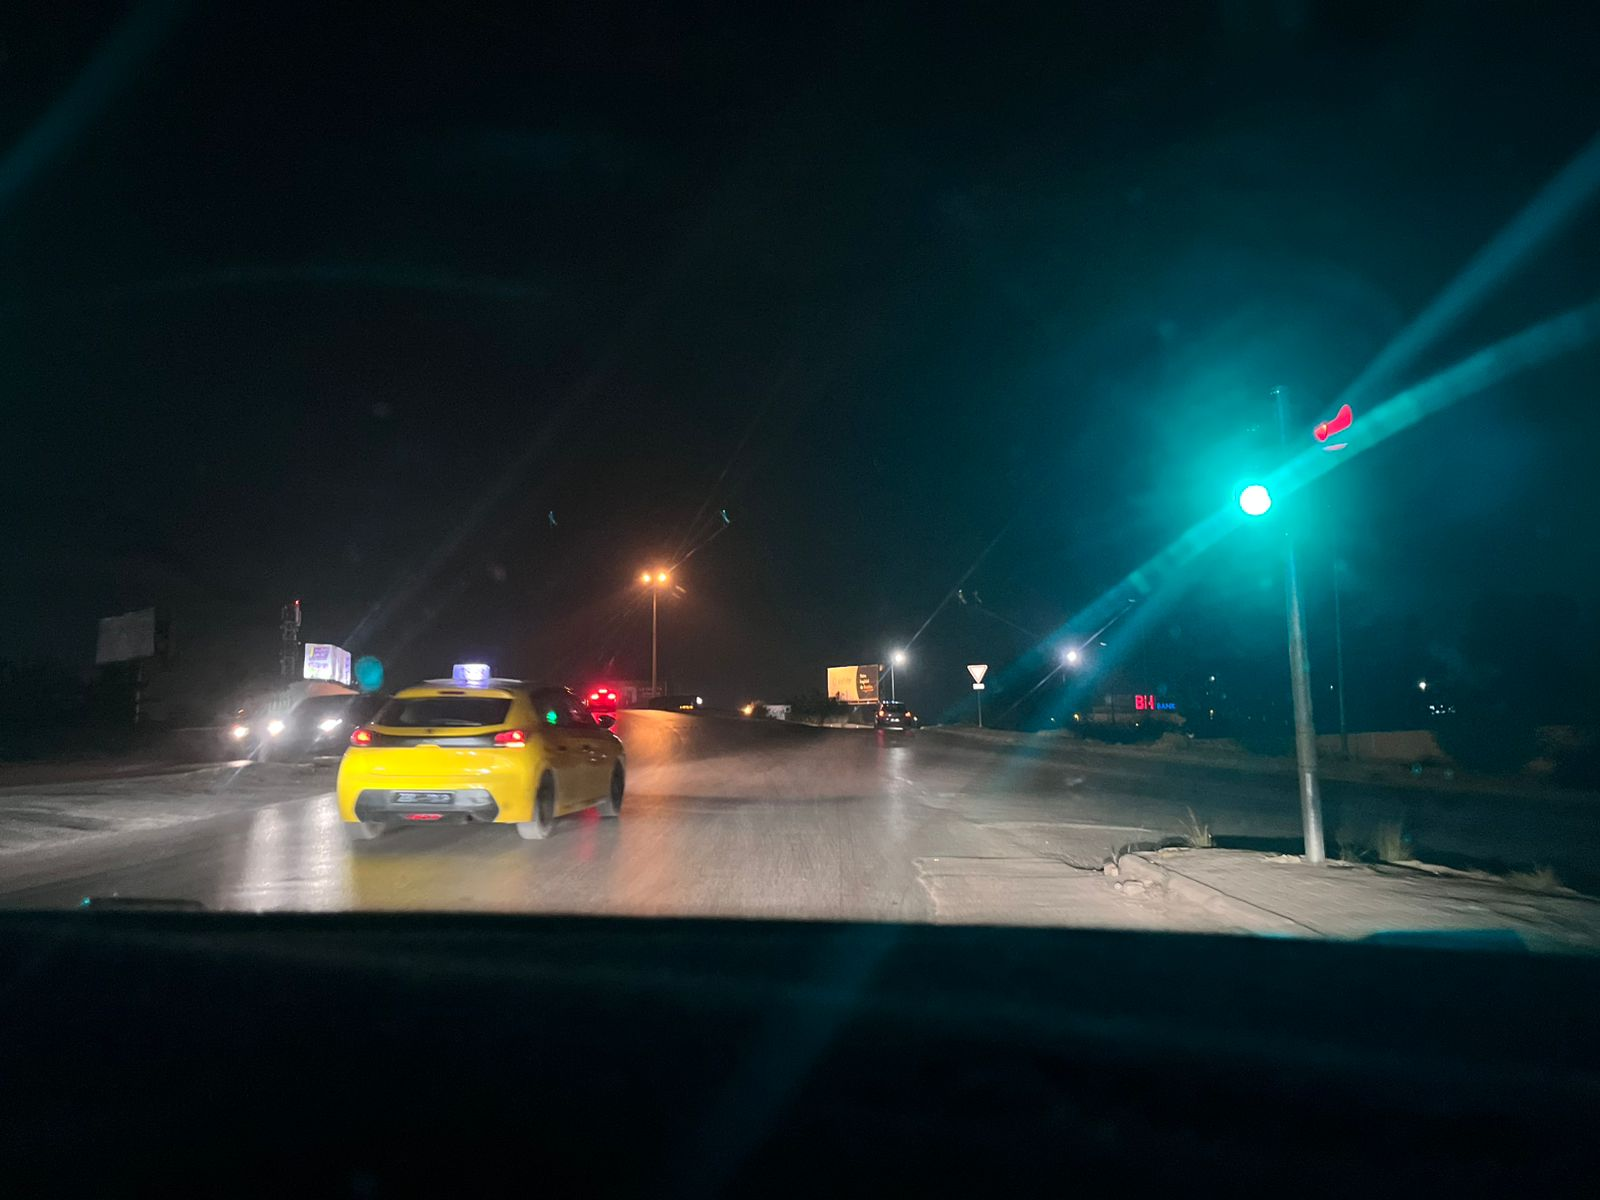GreenLight: (1225, 384, 1286, 547)
